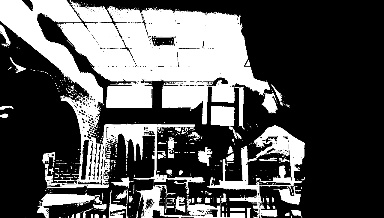H: (202, 84, 244, 125)
